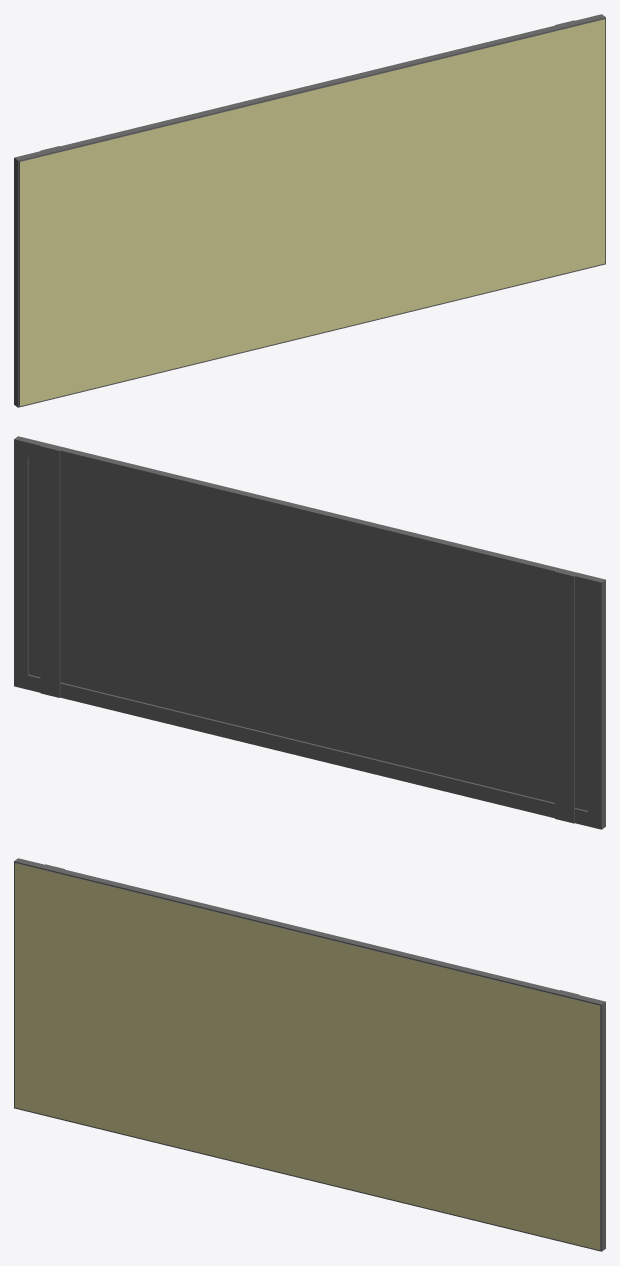
Rendered from Header Rectangle.glb.
3 views of the same model, one above another, from view 1: azimuth 30°, elevation 25°; view 2: azimuth 150°, elevation 25°; view 3: azimuth 330°, elevation 25° (orthographic).
Visible parts, largest first — view 1: Cadre.010; view 2: Cadre.010; view 3: Cadre.010.
Part boxes in pixels (bbox=[...]): Cadre.010: bbox=[14, 14, 605, 407]; Cadre.010: bbox=[14, 436, 605, 829]; Cadre.010: bbox=[14, 858, 605, 1251].
Size of the model in its own units: 1.21 by 0.4851 by 0.018.
